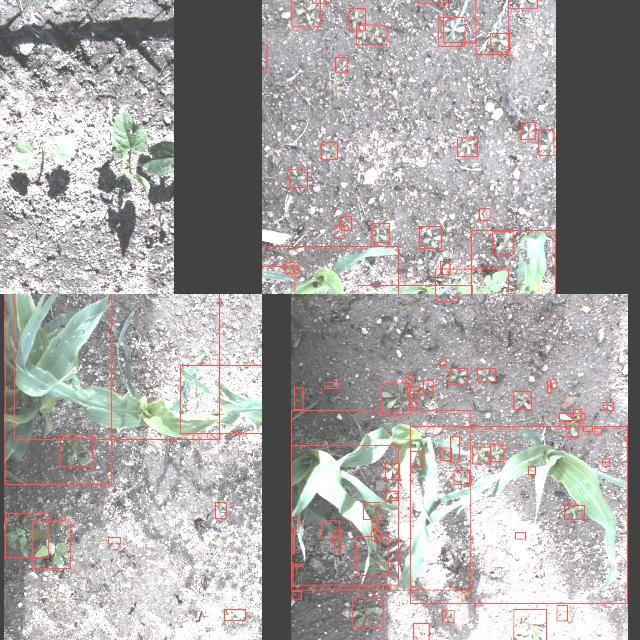crop: (410, 426, 628, 604), (291, 410, 471, 590), (13, 294, 219, 439), (5, 294, 111, 484), (291, 446, 399, 584), (262, 246, 399, 294), (180, 364, 262, 433), (471, 230, 555, 294), (262, 266, 295, 294), (291, 520, 299, 532), (290, 530, 294, 554), (292, 562, 292, 578)
weed: (5, 513, 48, 557), (435, 269, 508, 294), (32, 521, 70, 569), (475, 0, 508, 54), (444, 0, 476, 42), (356, 536, 388, 576), (59, 435, 92, 467), (513, 609, 546, 640), (380, 383, 410, 415), (352, 597, 382, 627), (291, 0, 320, 27), (439, 17, 465, 47), (356, 25, 386, 45), (419, 226, 441, 248), (493, 232, 513, 254), (538, 130, 554, 154), (288, 169, 308, 187), (457, 138, 477, 156), (490, 34, 510, 52), (349, 9, 365, 31), (372, 224, 390, 242), (514, 391, 532, 409), (472, 446, 490, 464), (321, 520, 339, 538), (321, 142, 337, 160), (449, 368, 467, 384), (363, 502, 379, 520), (565, 505, 585, 519), (450, 436, 460, 462), (413, 623, 428, 640), (521, 122, 535, 140), (477, 368, 495, 382), (491, 444, 504, 462), (454, 470, 470, 484), (385, 463, 399, 479), (224, 610, 246, 620), (332, 530, 342, 550), (335, 57, 347, 73), (566, 420, 578, 436), (559, 414, 585, 421), (216, 502, 227, 518), (556, 606, 568, 620), (410, 452, 422, 466), (294, 388, 302, 408), (436, 294, 457, 301), (286, 262, 298, 274), (341, 216, 351, 230), (441, 448, 452, 460), (442, 610, 453, 622), (440, 262, 450, 274), (480, 208, 490, 220), (335, 226, 345, 238), (423, 380, 433, 392), (407, 386, 419, 396), (386, 492, 398, 501), (604, 402, 614, 411), (324, 382, 338, 388), (574, 410, 582, 420), (291, 591, 301, 599), (371, 532, 381, 540), (108, 538, 120, 544), (409, 399, 417, 407), (602, 458, 610, 466), (528, 466, 536, 474), (406, 374, 412, 384), (583, 426, 593, 432), (516, 532, 526, 538), (550, 379, 556, 388), (547, 381, 551, 393), (594, 428, 602, 434), (372, 522, 378, 530), (440, 361, 446, 365), (294, 564, 302, 566), (626, 438, 628, 440)
